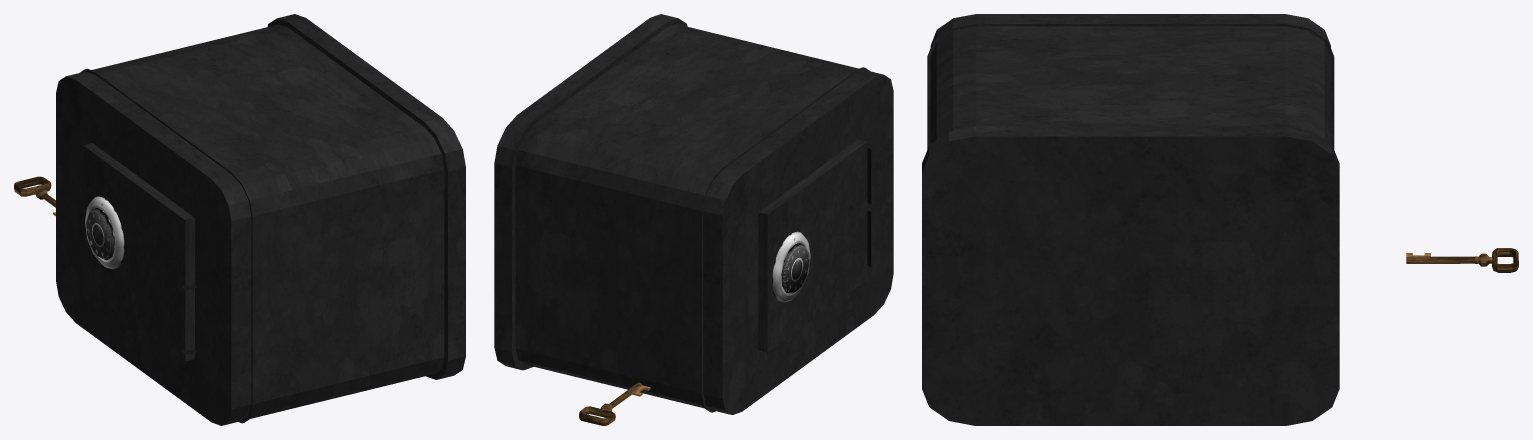
File: safeKey_GWJ99.glb
3 renders of one model, left to right at view 1: azimuth 30°, elevation 25°; view 2: azimuth 150°, elevation 25°; view 3: azimuth 270°, elevation 25°, orthographic. The views are drawn at different scales.
Parts seen in each view (by area): view 1: safe, safeHinge, innerDial, outterDial, key; view 2: safe, safeHinge, innerDial, outterDial, key; view 3: safe, key.
Part boxes in pixels (x1,y1,x2,y2): safe: (56, 14, 465, 425); safeHinge: (83, 143, 196, 361); innerDial: (86, 207, 114, 260); outterDial: (85, 196, 124, 269); key: (14, 176, 55, 215); safe: (494, 14, 893, 414); safeHinge: (758, 139, 871, 352); innerDial: (781, 243, 809, 293); outterDial: (771, 231, 810, 303); key: (579, 382, 650, 425); safe: (922, 14, 1339, 425); key: (1406, 248, 1518, 272).
Size of the model in its own units: 2.13 by 2.09 by 3.9.
Materials: 2 (2 with a texture image).
